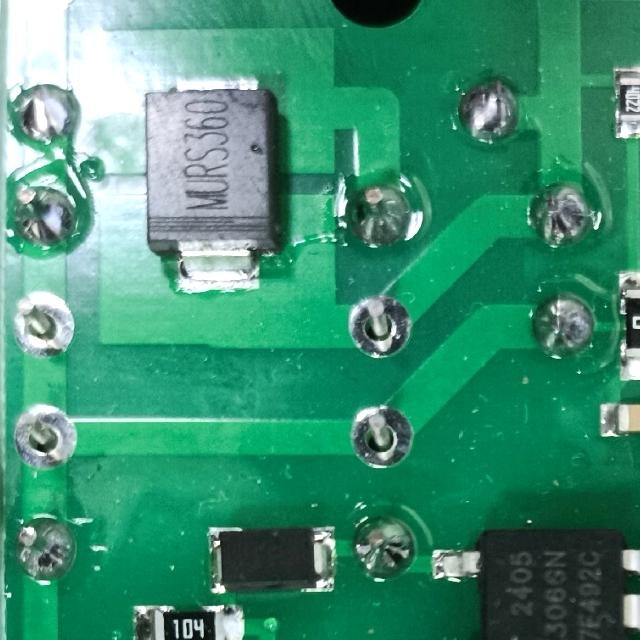chip-capacitor: (598, 400, 640, 440)
chip-resistor: (131, 602, 248, 640), (614, 64, 640, 141)
diode: (140, 76, 279, 294), (206, 525, 337, 596)
ic: (430, 521, 640, 640)
